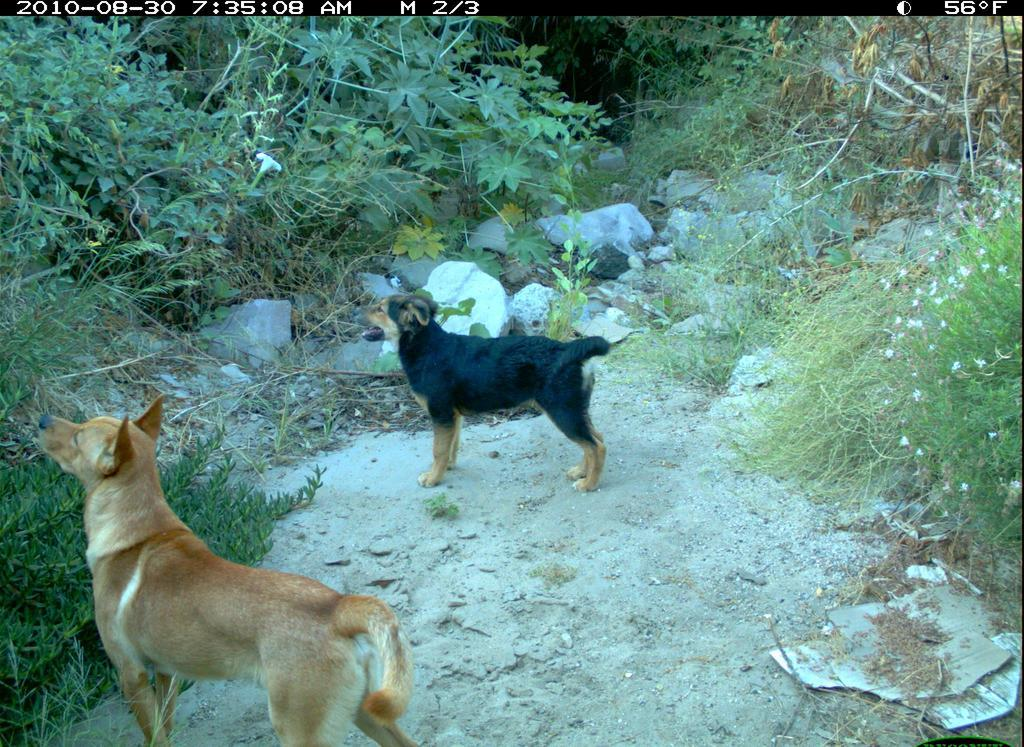dog: (34, 393, 423, 747), (350, 290, 615, 502)
